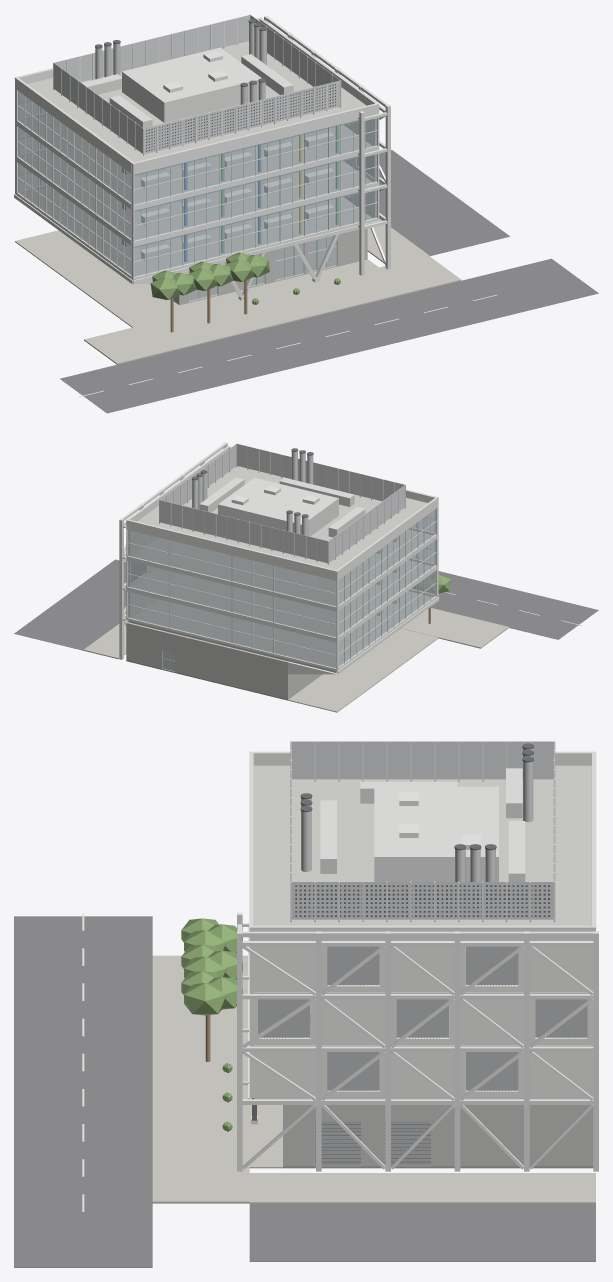
Rendered from clay-exoskeleton-research-lab-clay-v001.glb.
The picture shows the model from 3 angles, top to bottom: view 1: azimuth 30°, elevation 25°; view 2: azimuth 150°, elevation 25°; view 3: azimuth 270°, elevation 25°; orthographic projection. The views are drawn at different scales.
Visible parts, largest first — view 1: CLAY_GLASS, CLAY_ASPHALT, CLAY_SAND, CLAY_FLOOR, CLAY_WHITE, CLAY_PERF, CLAY_PALE, CLAY_TRIM, CLAY_STEEL, CLAY_MEMBRANE, CLAY_PLANTING, CLAY_INTERIOR (+6 smaller); view 2: CLAY_GLASS, CLAY_FLOOR, CLAY_WHITE, CLAY_ASPHALT, CLAY_PERF, CLAY_SAND, CLAY_PALE, CLAY_CONCRETE, CLAY_TRIM, CLAY_MEMBRANE, CLAY_STEEL, CLAY_FLUE; view 3: CLAY_ASPHALT, CLAY_WHITE, CLAY_SAND, CLAY_STEEL, CLAY_MEMBRANE, CLAY_PERF, CLAY_PALE, CLAY_LOUVRE, CLAY_CONCRETE, CLAY_PLANTING, CLAY_HARDWARE, CLAY_FLUE (+1 smaller).
Part boxes in pixels (<box>): CLAY_GLASS: <box>18,91,377,300</box>; CLAY_ASPHALT: <box>60,150,598,413</box>; CLAY_SAND: <box>15,219,461,364</box>; CLAY_FLOOR: <box>22,114,371,275</box>; CLAY_WHITE: <box>14,20,497,396</box>; CLAY_PERF: <box>54,15,339,154</box>; CLAY_PALE: <box>14,17,379,249</box>; CLAY_TRIM: <box>17,95,377,301</box>; CLAY_STEEL: <box>53,14,390,300</box>; CLAY_MEMBRANE: <box>27,41,366,162</box>; CLAY_PLANTING: <box>150,252,340,304</box>; CLAY_INTERIOR: <box>122,136,333,260</box>; CLAY_GLASS: <box>128,509,435,670</box>; CLAY_FLOOR: <box>129,529,432,672</box>; CLAY_WHITE: <box>126,448,582,674</box>; CLAY_ASPHALT: <box>14,559,598,650</box>; CLAY_PERF: <box>160,443,405,562</box>; CLAY_SAND: <box>83,608,509,712</box>; CLAY_PALE: <box>126,446,438,572</box>; CLAY_CONCRETE: <box>126,622,321,699</box>; CLAY_TRIM: <box>128,513,436,670</box>; CLAY_MEMBRANE: <box>137,466,427,569</box>; CLAY_STEEL: <box>119,442,405,659</box>; CLAY_FLUE: <box>192,451,313,535</box>; CLAY_ASPHALT: <box>14,916,595,1267</box>; CLAY_WHITE: <box>82,754,595,1211</box>; CLAY_SAND: <box>152,955,595,1203</box>; CLAY_STEEL: <box>237,741,598,1171</box>; CLAY_MEMBRANE: <box>254,765,591,925</box>; CLAY_PERF: <box>291,741,554,919</box>; CLAY_PALE: <box>249,751,596,928</box>; CLAY_LOUVRE: <box>258,946,587,1165</box>; CLAY_CONCRETE: <box>283,1105,593,1166</box>; CLAY_PLANTING: <box>181,918,242,1131</box>; CLAY_HARDWARE: <box>295,743,549,1162</box>; CLAY_FLUE: <box>301,748,533,881</box>.
Bounding box in the file's own units: 60.5 × 23.1 × 42.21.
